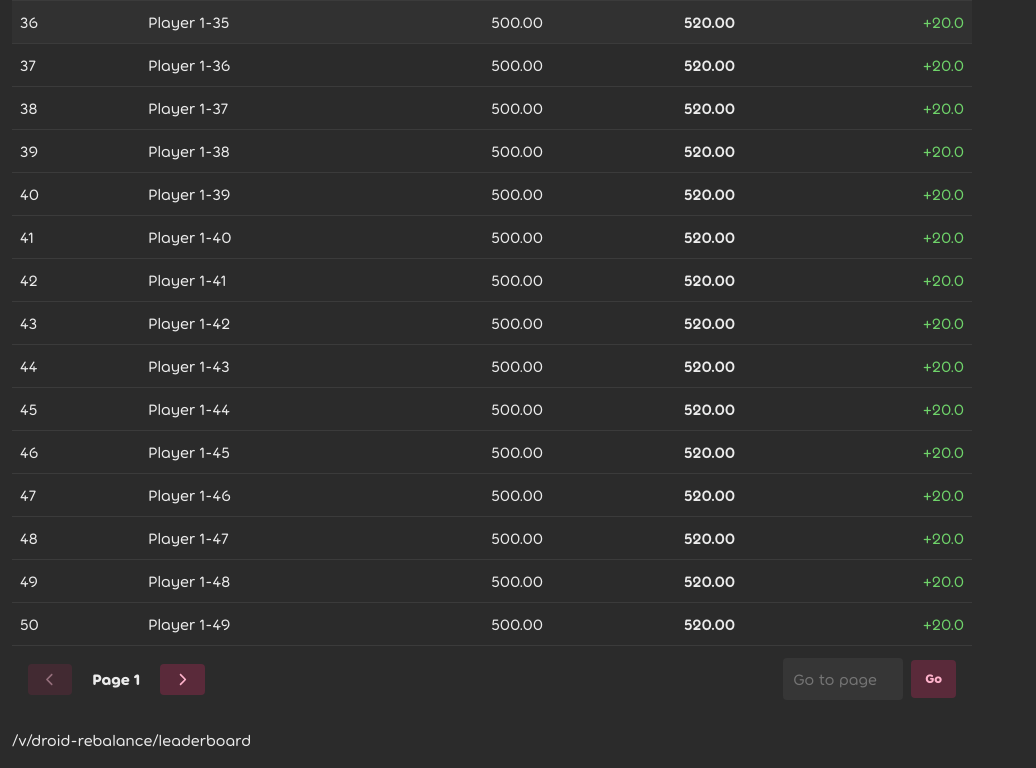
Scenario: LeaderboardTab › keeps the page when the search has not changed
(page scrolled)
What coordinates should you click on to do the following:
click the button named "Next page"
I would click on:
 (182, 679)
Its box is 160,664 -> 205,694.
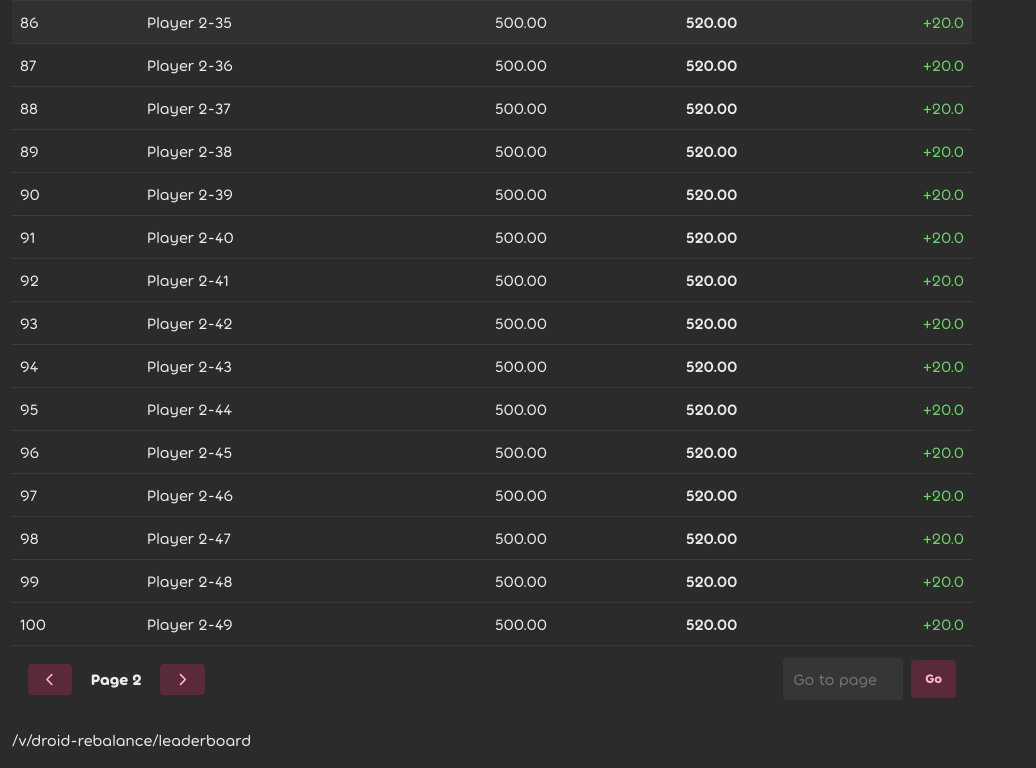
Result: the text "Page 2" is shown at 91,669 -> 142,688
